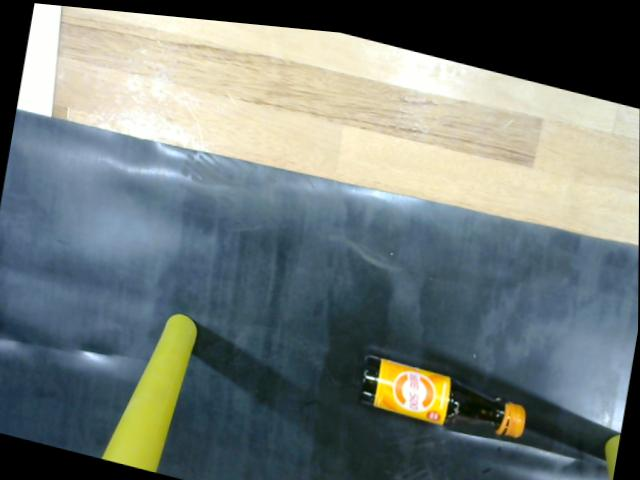glass: (354, 337, 530, 432)
